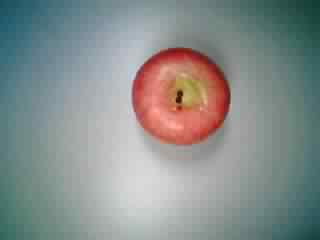apple: (129, 44, 231, 144)
